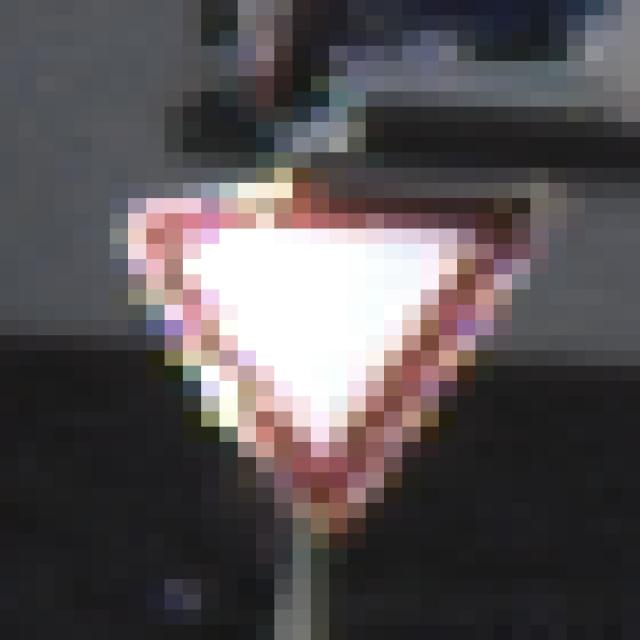Give Way: (93, 77, 550, 565)
